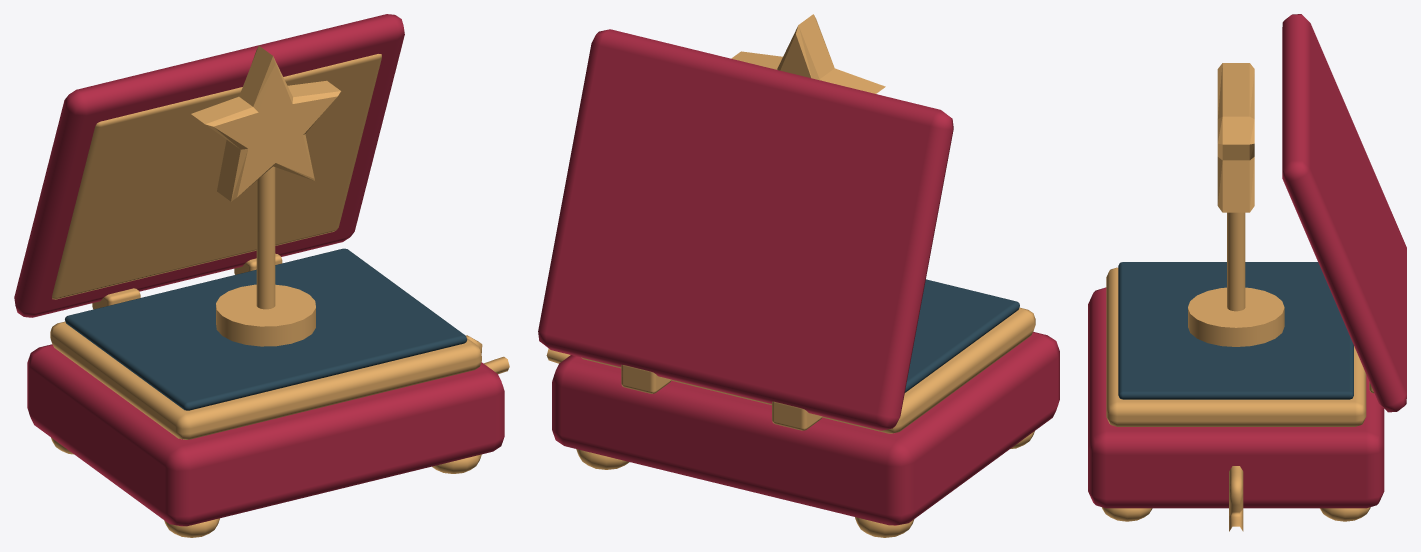
File: storybook-christmas-market-star-music-box-4fc1673b__19738.glb
3 views of the same model, side by side, from view 1: azimuth 30°, elevation 25°; view 2: azimuth 150°, elevation 25°; view 3: azimuth 270°, elevation 25° (orthographic). The views are drawn at different scales.
Visible parts, largest first — view 1: star-music-box, open-lid (×2); view 2: open-lid, star-music-box; view 3: star-music-box, open-lid.
Boxes of the visible parts, x1,y1,x2,y2 form: star-music-box: [27, 46, 509, 537]; open-lid (×2): [14, 14, 404, 317]; open-lid: [538, 29, 953, 430]; star-music-box: [546, 14, 1059, 537]; star-music-box: [1088, 63, 1384, 531]; open-lid: [1282, 14, 1406, 412].
Size of the model in its own units: 0.75 by 0.7183 by 0.5273.
